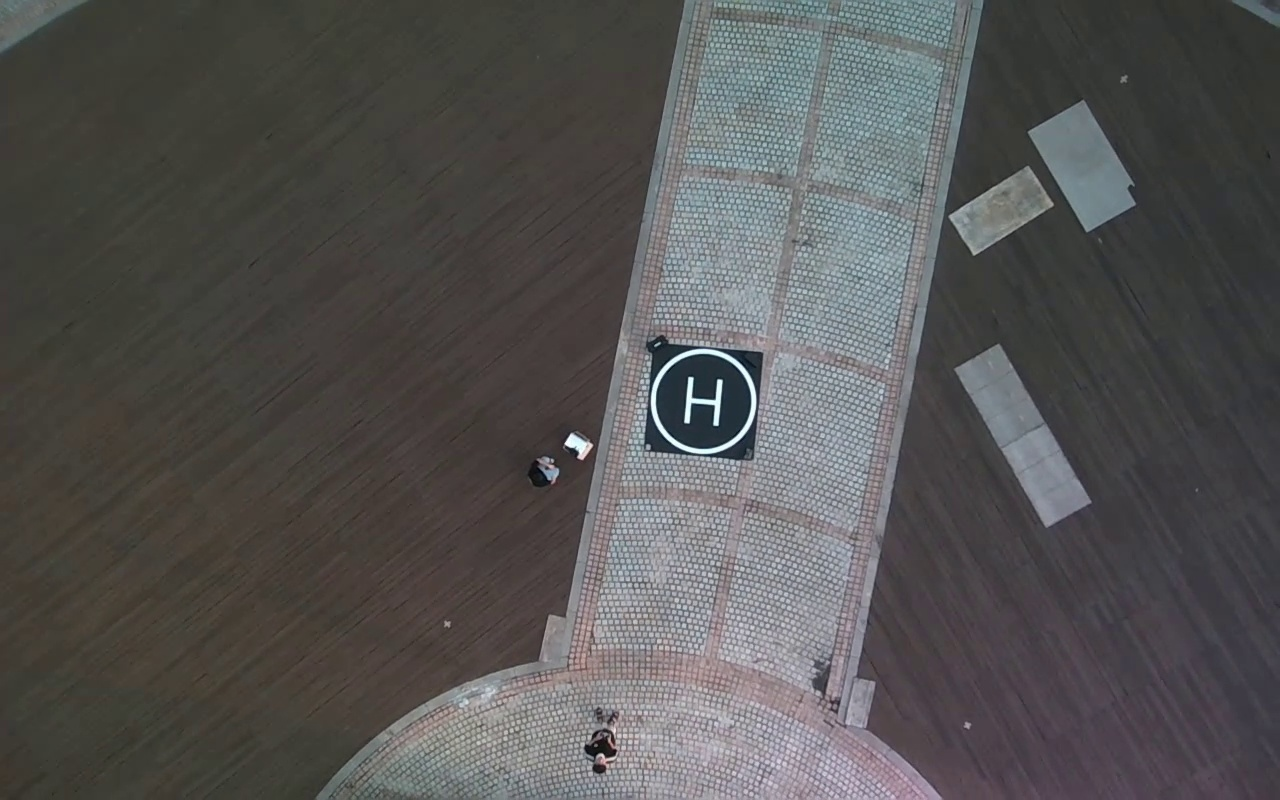H: (682, 376, 722, 425)
heliport: (651, 349, 757, 453)
